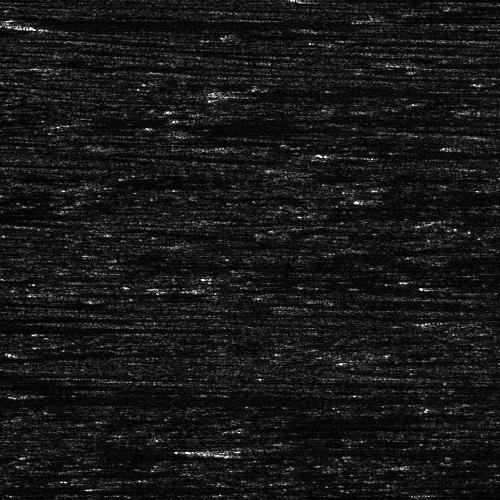object: (140, 277, 245, 298), (340, 55, 403, 68), (298, 149, 403, 156), (215, 446, 268, 453), (0, 21, 66, 26), (221, 86, 252, 95), (432, 319, 463, 326), (32, 291, 73, 294)
shadow: (192, 277, 485, 298), (0, 394, 410, 403), (0, 483, 186, 492), (372, 55, 500, 68), (24, 21, 302, 26), (351, 149, 500, 156), (0, 208, 44, 223), (237, 86, 309, 95), (242, 446, 319, 453), (52, 291, 194, 294), (447, 319, 500, 326)
